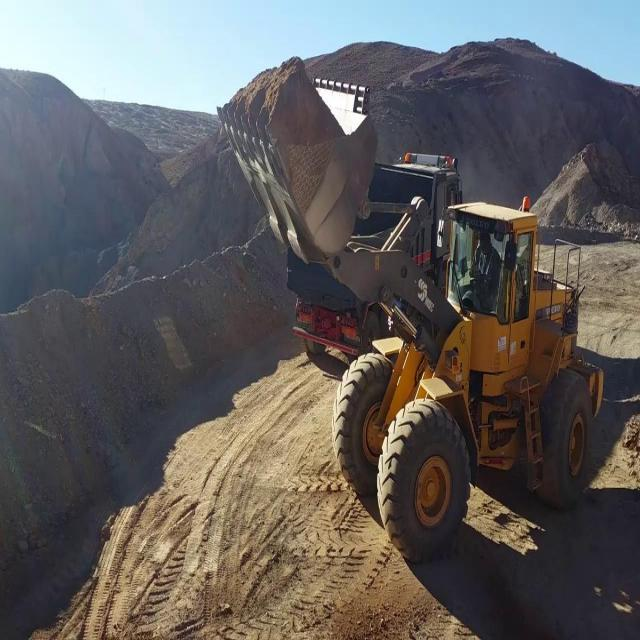Dump Truck: (285, 150, 463, 364)
Loader: (215, 77, 603, 563)
